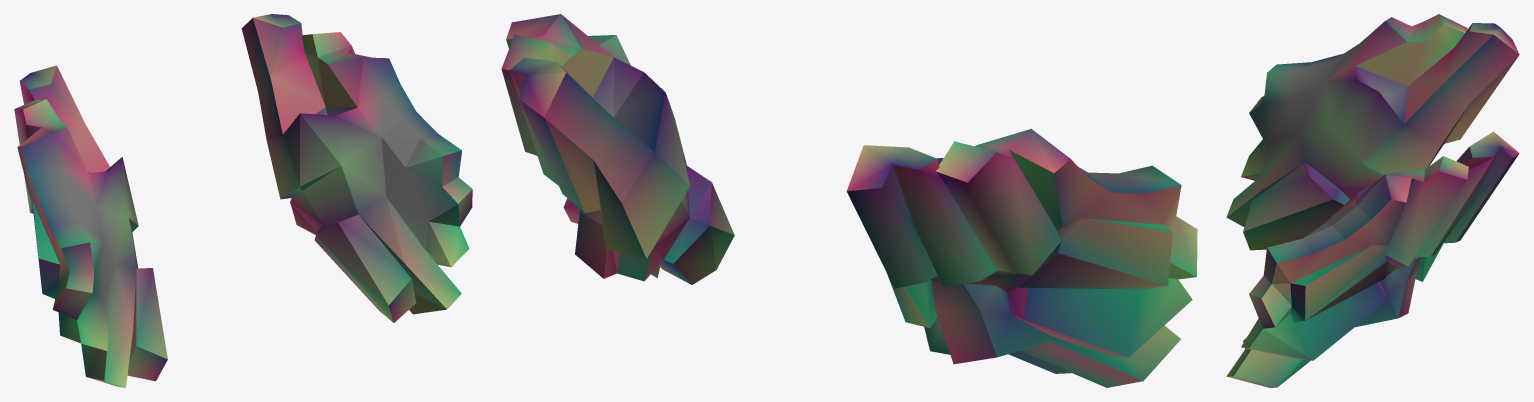
File: Eff_GolemWeapon_02.fbx
3 renders of one model, left to right at view 1: azimuth 30°, elevation 25°; view 2: azimuth 150°, elevation 25°; view 3: azimuth 270°, elevation 25°, orthographic. The views are drawn at different scales.
Parts seen in each view (by area): view 1: Eff_Golem_Weapon_L02, Eff_Golem_Weapon_R02; view 2: Eff_Golem_Weapon_R02, Eff_Golem_Weapon_L02; view 3: Eff_Golem_Weapon_R02, Eff_Golem_Weapon_L02.
Boxes of the visible parts, <box> form: Eff_Golem_Weapon_L02: <box>241,14,472,322</box>; Eff_Golem_Weapon_R02: <box>14,65,167,387</box>; Eff_Golem_Weapon_R02: <box>846,129,1197,387</box>; Eff_Golem_Weapon_L02: <box>501,14,734,284</box>; Eff_Golem_Weapon_R02: <box>1226,14,1519,250</box>; Eff_Golem_Weapon_L02: <box>1226,131,1519,387</box>.
Size of the model in its own units: 1.74 by 0.9034 by 1.04.
